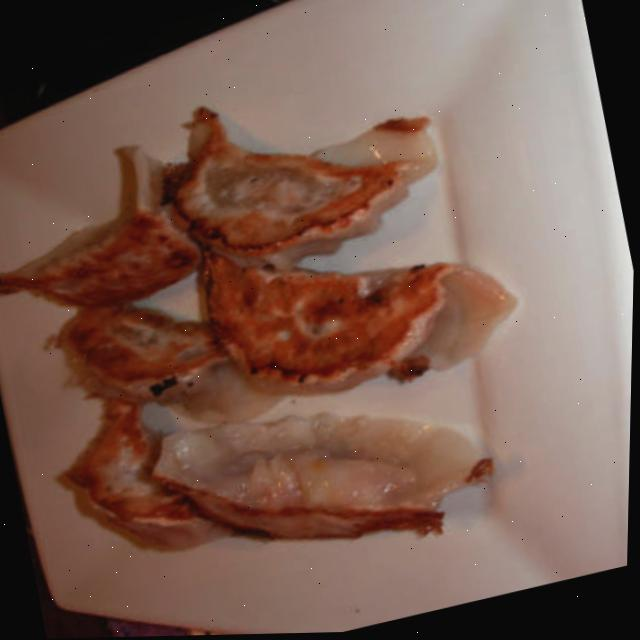带馅早点: (0, 68, 552, 602)
